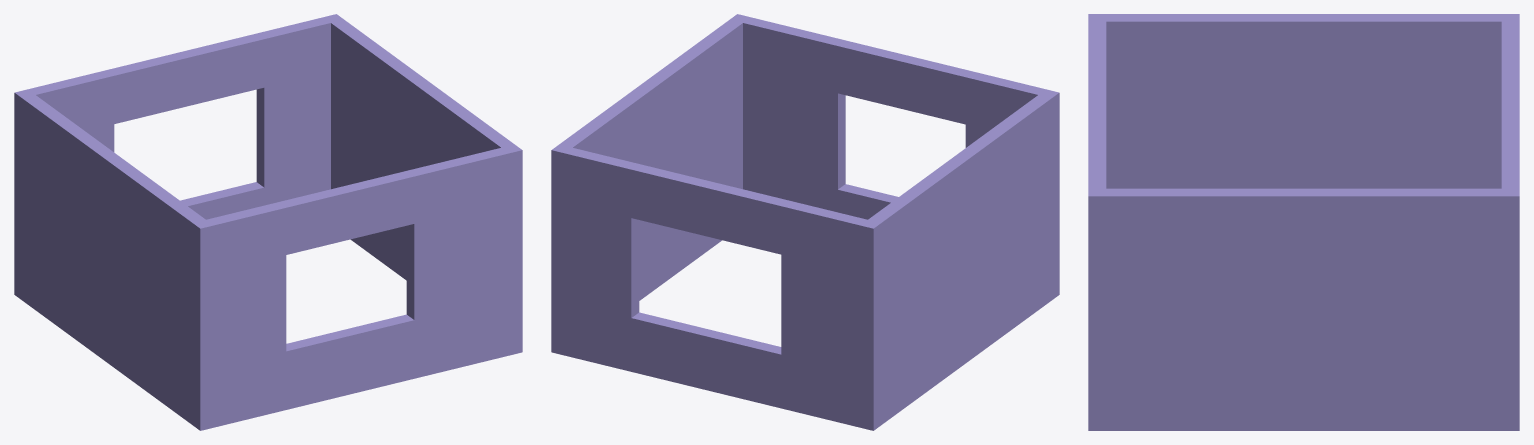
Rendered from Walls.glb.
The picture shows the model from 3 angles, left to right: view 1: azimuth 30°, elevation 25°; view 2: azimuth 150°, elevation 25°; view 3: azimuth 270°, elevation 25°; orthographic projection. The views are drawn at different scales.
Visible parts, largest first — view 1: Walls; view 2: Walls; view 3: Walls.
Boxes of the visible parts, left/top/right/bottom form: Walls: left=14, top=14, right=522, bottom=430; Walls: left=551, top=14, right=1059, bottom=430; Walls: left=1088, top=14, right=1519, bottom=430.
Size of the model in its own units: 5 by 3 by 5.
